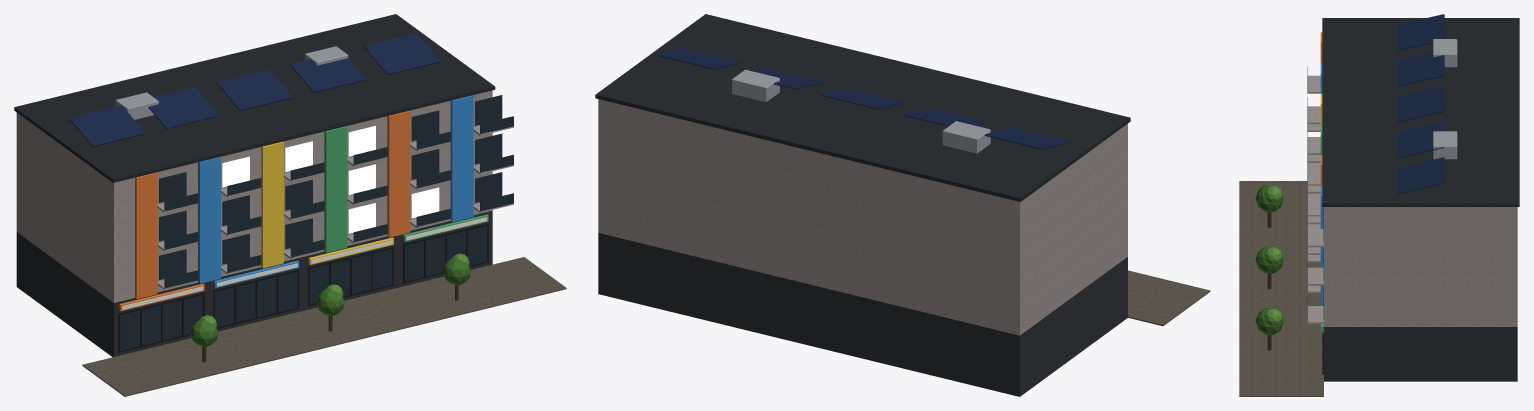
File: OT_MixedUse_A.glb
3 renders of one model, left to right at view 1: azimuth 30°, elevation 25°; view 2: azimuth 150°, elevation 25°; view 3: azimuth 270°, elevation 25°, orthographic. The views are drawn at different scales.
Visible parts, largest first — view 1: OT_MixedUse_A_DarkFrame__25282c, OT_MixedUse_A_Glass__22303a, OT_MixedUse_A_Stucco, OT_MixedUse_A_Pavement, OT_MixedUse_A_Charcoal__2e3136, OT_MixedUse_A_Solar__1b2a4a, OT_MixedUse_A_MUp1__3a8fd0, OT_MixedUse_A_MUp0__e07a3a, OT_MixedUse_A_InteriorWarm__ffdca8, OT_MixedUse_A_Frame__18191c, OT_MixedUse_A_MUp3__4aa86a, OT_MixedUse_A_MUp2__e8c23a (+3 smaller); view 2: OT_MixedUse_A_Stucco, OT_MixedUse_A_DarkFrame__25282c, OT_MixedUse_A_Charcoal__2e3136, OT_MixedUse_A_Solar__1b2a4a, OT_MixedUse_A_Pavement, OT_MixedUse_A_SteelGrey__9aa0a6; view 3: OT_MixedUse_A_DarkFrame__25282c, OT_MixedUse_A_Stucco, OT_MixedUse_A_Pavement, OT_MixedUse_A_Charcoal__2e3136, OT_MixedUse_A_Solar__1b2a4a, OT_MixedUse_A_SteelGrey__9aa0a6, OT_MixedUse_A_Leaf__3f6e2c, OT_MixedUse_A_Leaf2__58893a, OT_MixedUse_A_MUp1__3a8fd0, OT_MixedUse_A_Glass__22303a.
Boxes of the visible parts, box(x1,y1,x2,y2) form: OT_MixedUse_A_DarkFrame__25282c: box(14, 14, 495, 182); OT_MixedUse_A_Glass__22303a: box(120, 95, 513, 350); OT_MixedUse_A_Stucco: box(16, 90, 513, 302); OT_MixedUse_A_Pavement: box(82, 257, 566, 396); OT_MixedUse_A_Charcoal__2e3136: box(16, 210, 492, 356); OT_MixedUse_A_Solar__1b2a4a: box(69, 33, 439, 146); OT_MixedUse_A_MUp1__3a8fd0: box(198, 95, 473, 283); OT_MixedUse_A_MUp0__e07a3a: box(135, 110, 410, 298); OT_MixedUse_A_InteriorWarm__ffdca8: box(222, 125, 439, 233); OT_MixedUse_A_Frame__18191c: box(118, 223, 488, 352); OT_MixedUse_A_MUp3__4aa86a: box(324, 126, 347, 252); OT_MixedUse_A_MUp2__e8c23a: box(261, 141, 283, 268); OT_MixedUse_A_Stucco: box(598, 99, 1127, 335); OT_MixedUse_A_DarkFrame__25282c: box(595, 14, 1130, 201); OT_MixedUse_A_Charcoal__2e3136: box(598, 233, 1127, 396); OT_MixedUse_A_Solar__1b2a4a: box(656, 47, 1069, 149); OT_MixedUse_A_Pavement: box(1128, 270, 1210, 326); OT_MixedUse_A_SteelGrey__9aa0a6: box(732, 69, 990, 153); OT_MixedUse_A_DarkFrame__25282c: box(1322, 18, 1519, 206); OT_MixedUse_A_Stucco: box(1307, 75, 1517, 326); OT_MixedUse_A_Pavement: box(1239, 181, 1323, 396); OT_MixedUse_A_Charcoal__2e3136: box(1324, 327, 1517, 381); OT_MixedUse_A_Solar__1b2a4a: box(1397, 14, 1444, 194); OT_MixedUse_A_SteelGrey__9aa0a6: box(1433, 39, 1457, 159); OT_MixedUse_A_Leaf__3f6e2c: box(1255, 185, 1283, 334); OT_MixedUse_A_Leaf2__58893a: box(1264, 185, 1282, 325); OT_MixedUse_A_MUp1__3a8fd0: box(1320, 63, 1323, 305); OT_MixedUse_A_Glass__22303a: box(1307, 66, 1323, 372).
Bounding box in the file's own units: 42 × 17.5 × 23.15.
Materials: 21 (2 with a texture image).
